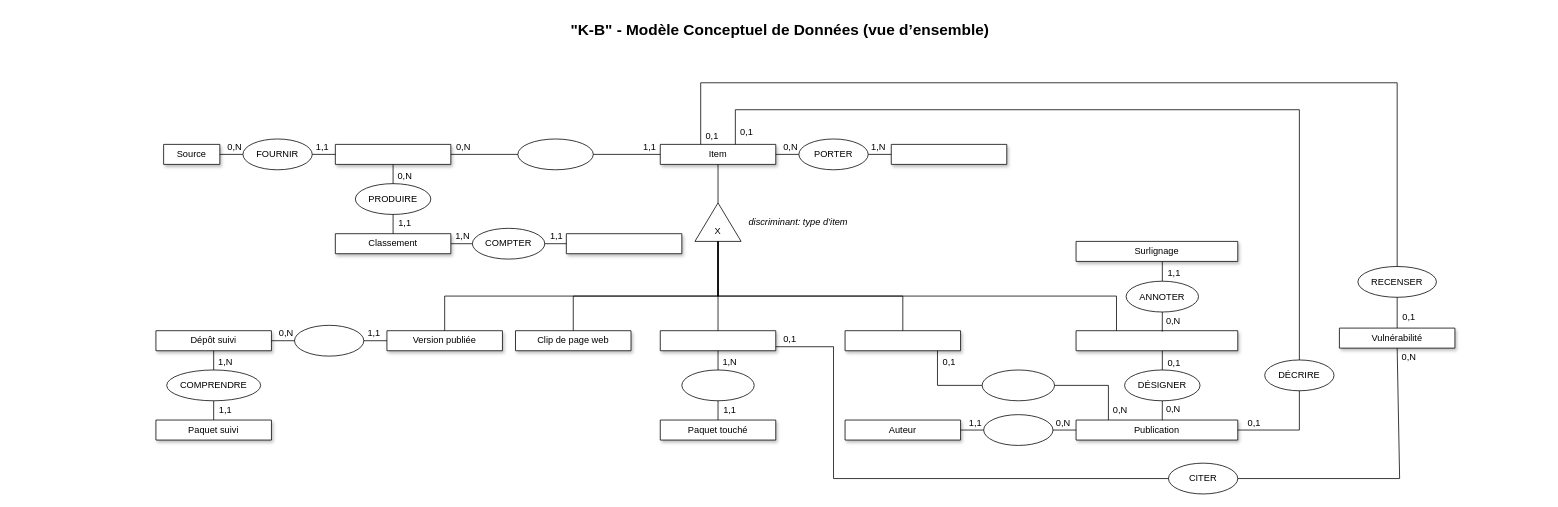
Some shapes in this 1558 by 507 pixel diagram are drawn without their labels. Each missing label, with the centre of its shape:
Alerte GitHub: point (718, 341)
Article de newsletter: point (903, 341)
CONTENIR: point (555, 154)
Donnée brute: point (393, 155)
Entrée Zotero: point (1157, 341)
PUBLIER: point (329, 340)
RÉSUMER: point (1018, 385)
Tendance: point (624, 244)
TOUCHER: point (717, 385)
ÉCRIRE: point (1018, 429)
Étiquette: point (949, 155)
